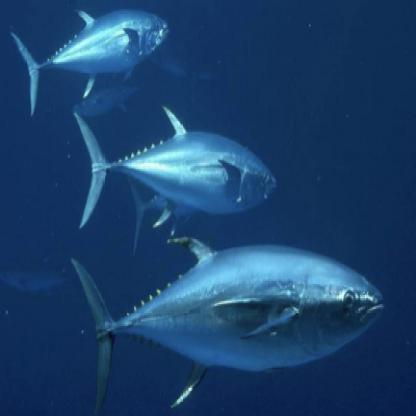Bio: (67, 230, 387, 412), (70, 98, 278, 228), (9, 4, 171, 122)
